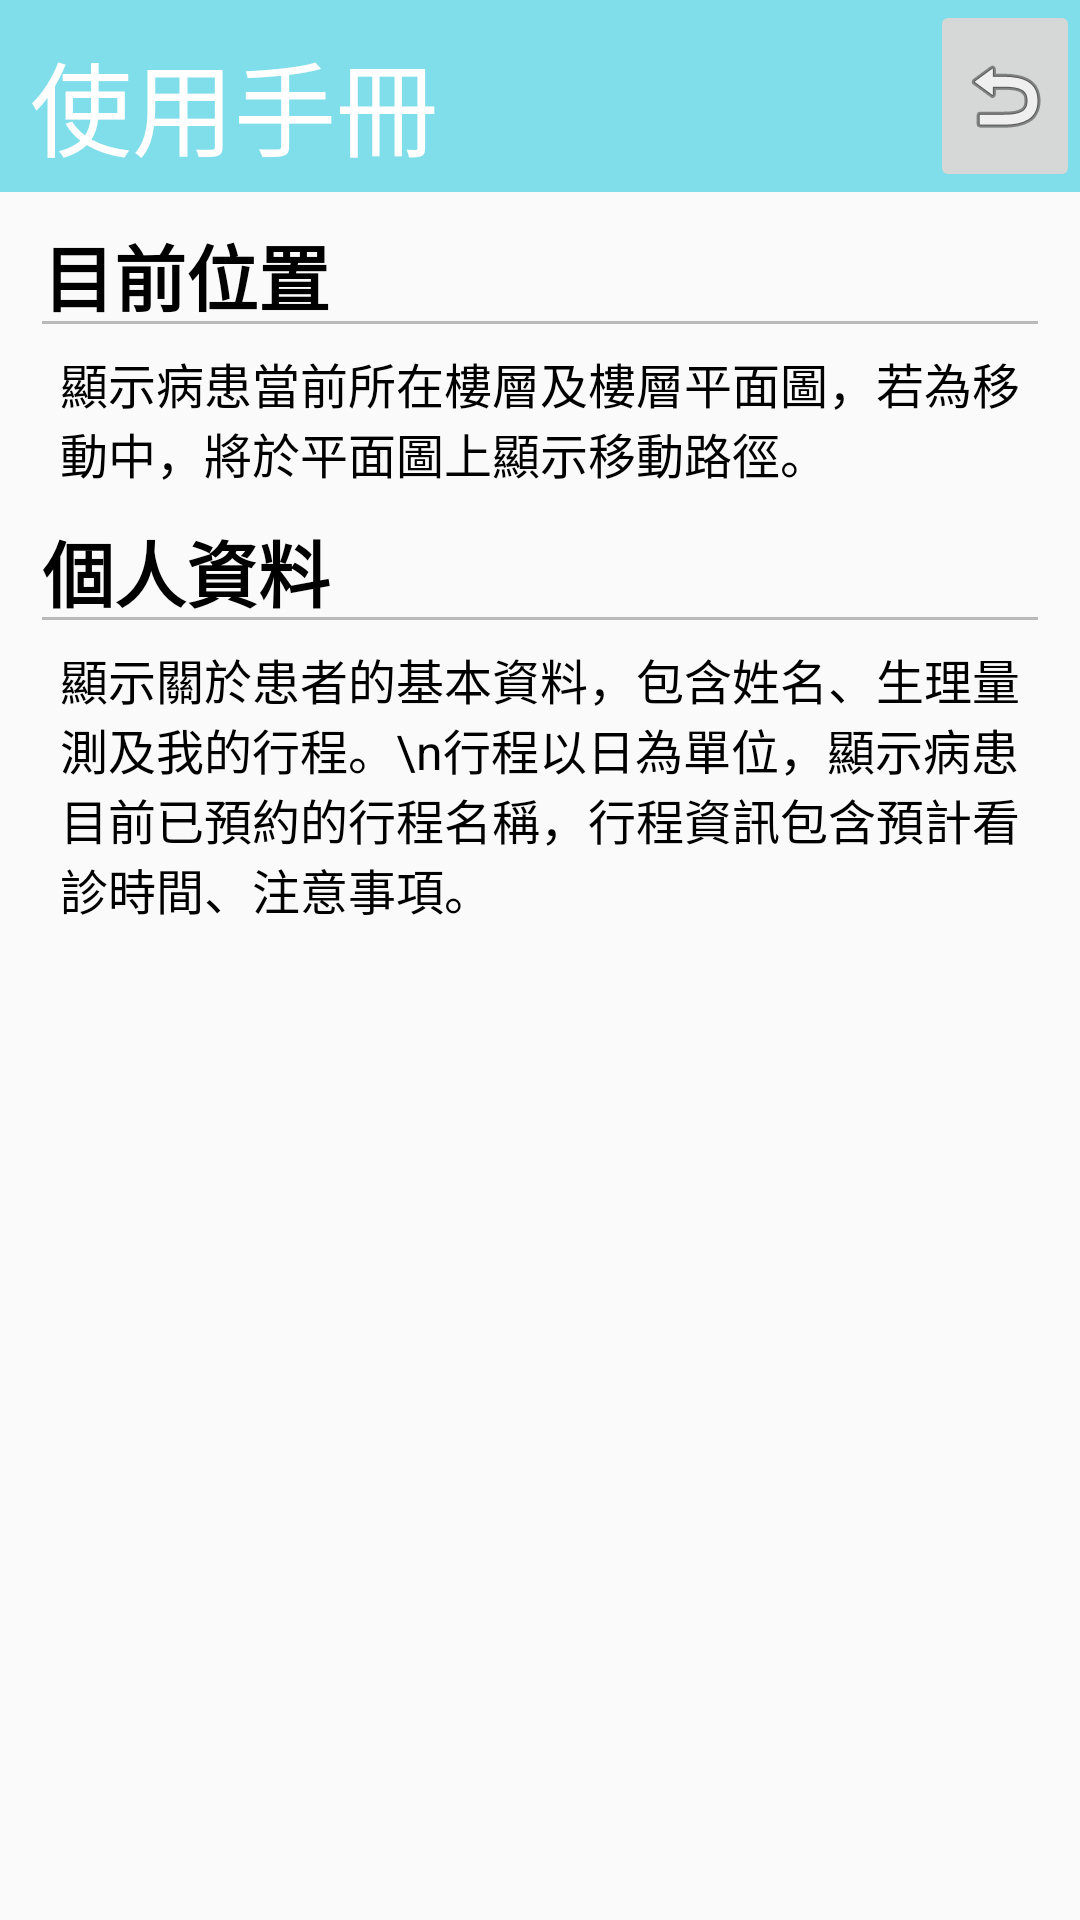

Locate icon controls on the screen. Image size 1080x1920, boxes as (x1, y1, x2, y2).
revert: (942, 18, 1068, 174)
